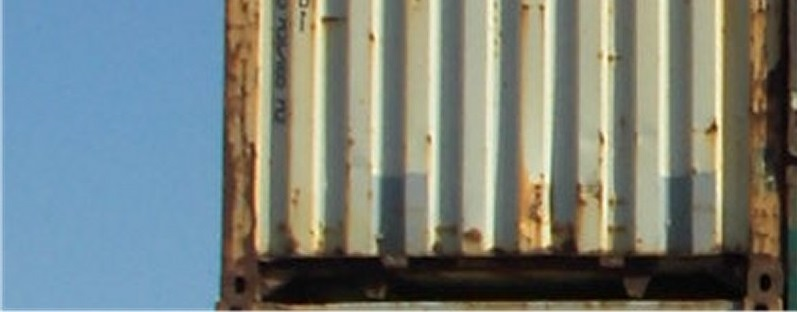container_no_door: (218, 1, 786, 300)
